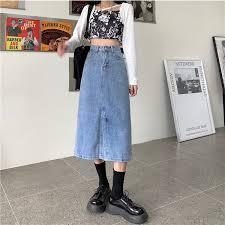skirt: (72, 39, 134, 171)
